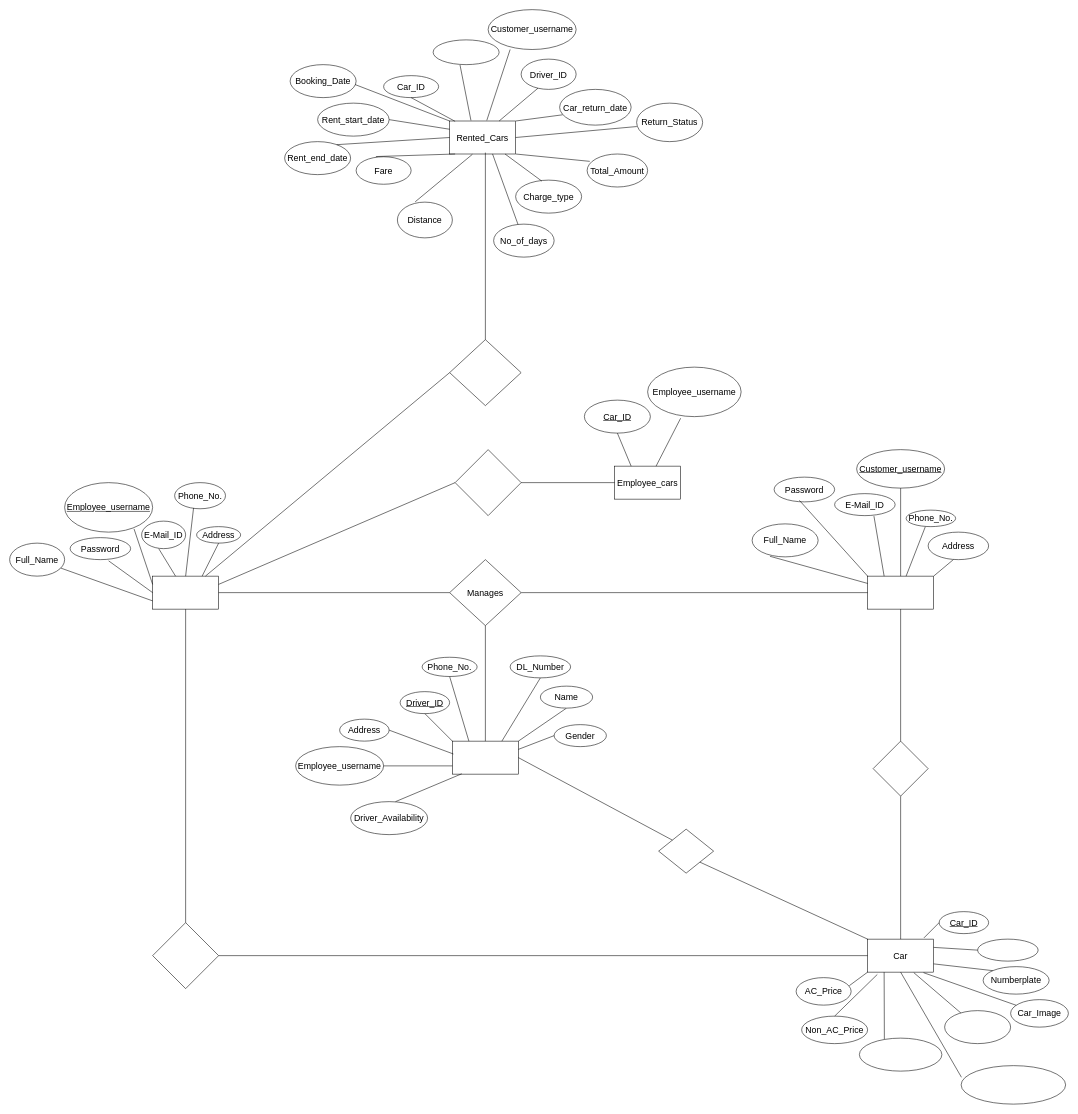
The diagram is 1078 pixels wide and 1114 high, and some of its shapes have lost their labels. Here are the shapes that lost their labels. From the top down, the centre of each, then its label:
At (466,52): "Transaction_ID".
At (485,372): "Monitors".
At (488,482): "Enrolls".
At (185,592): "Employee".
At (900,592): "Customer".
At (485,757): "Driver".
At (900,768): "Rents".
At (686,851): "Drives".
At (185,955): "Adds".
At (1007,950): "Car_Name".
At (977,1027): "Car_Availability".
At (900,1054): "AC_Price_Per_Day".
At (1013,1084): "Non_AC_Price_Per_Day".
